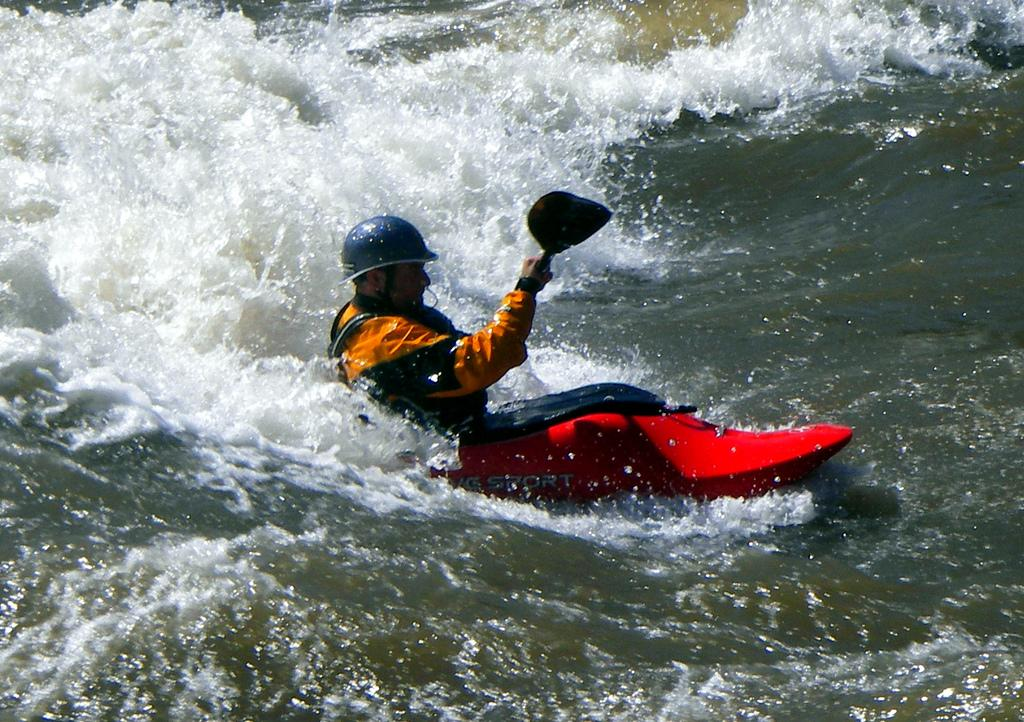helmet: (341, 215, 440, 311)
